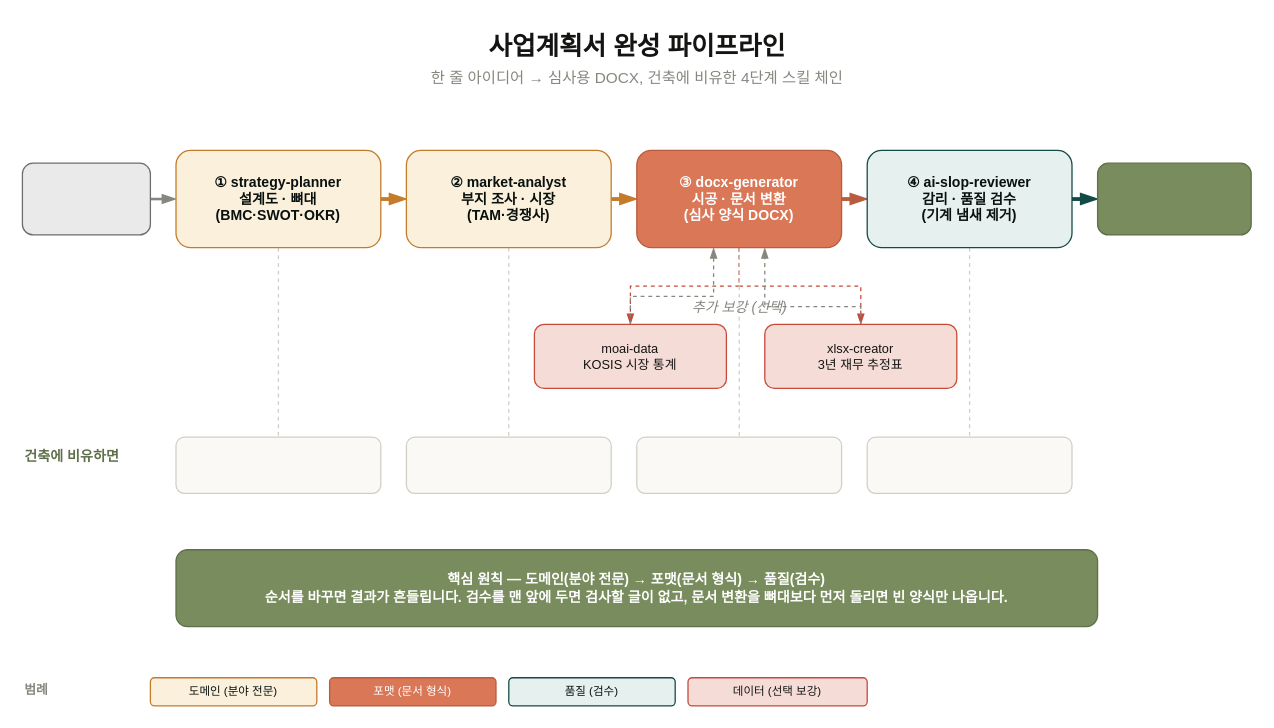
Image size: 1274x728. Some labels were removed from this diagram. The shapes that lost their labels are listed below. From the top down, each one's centre as x and y in pixels, then its label:
At (x=85, y=198): "한 줄 아이템 입력".
At (x=1173, y=198): "심사용 DOCX 완성".
At (x=278, y=464): "설계사 도면을 그린다".
At (x=508, y=464): "측량 전문가 부지를 조사한다".
At (x=739, y=464): "시공사 도면대로 집을 세운다".
At (x=969, y=464): "감리 완성된 집의 흠집 잡는다".
